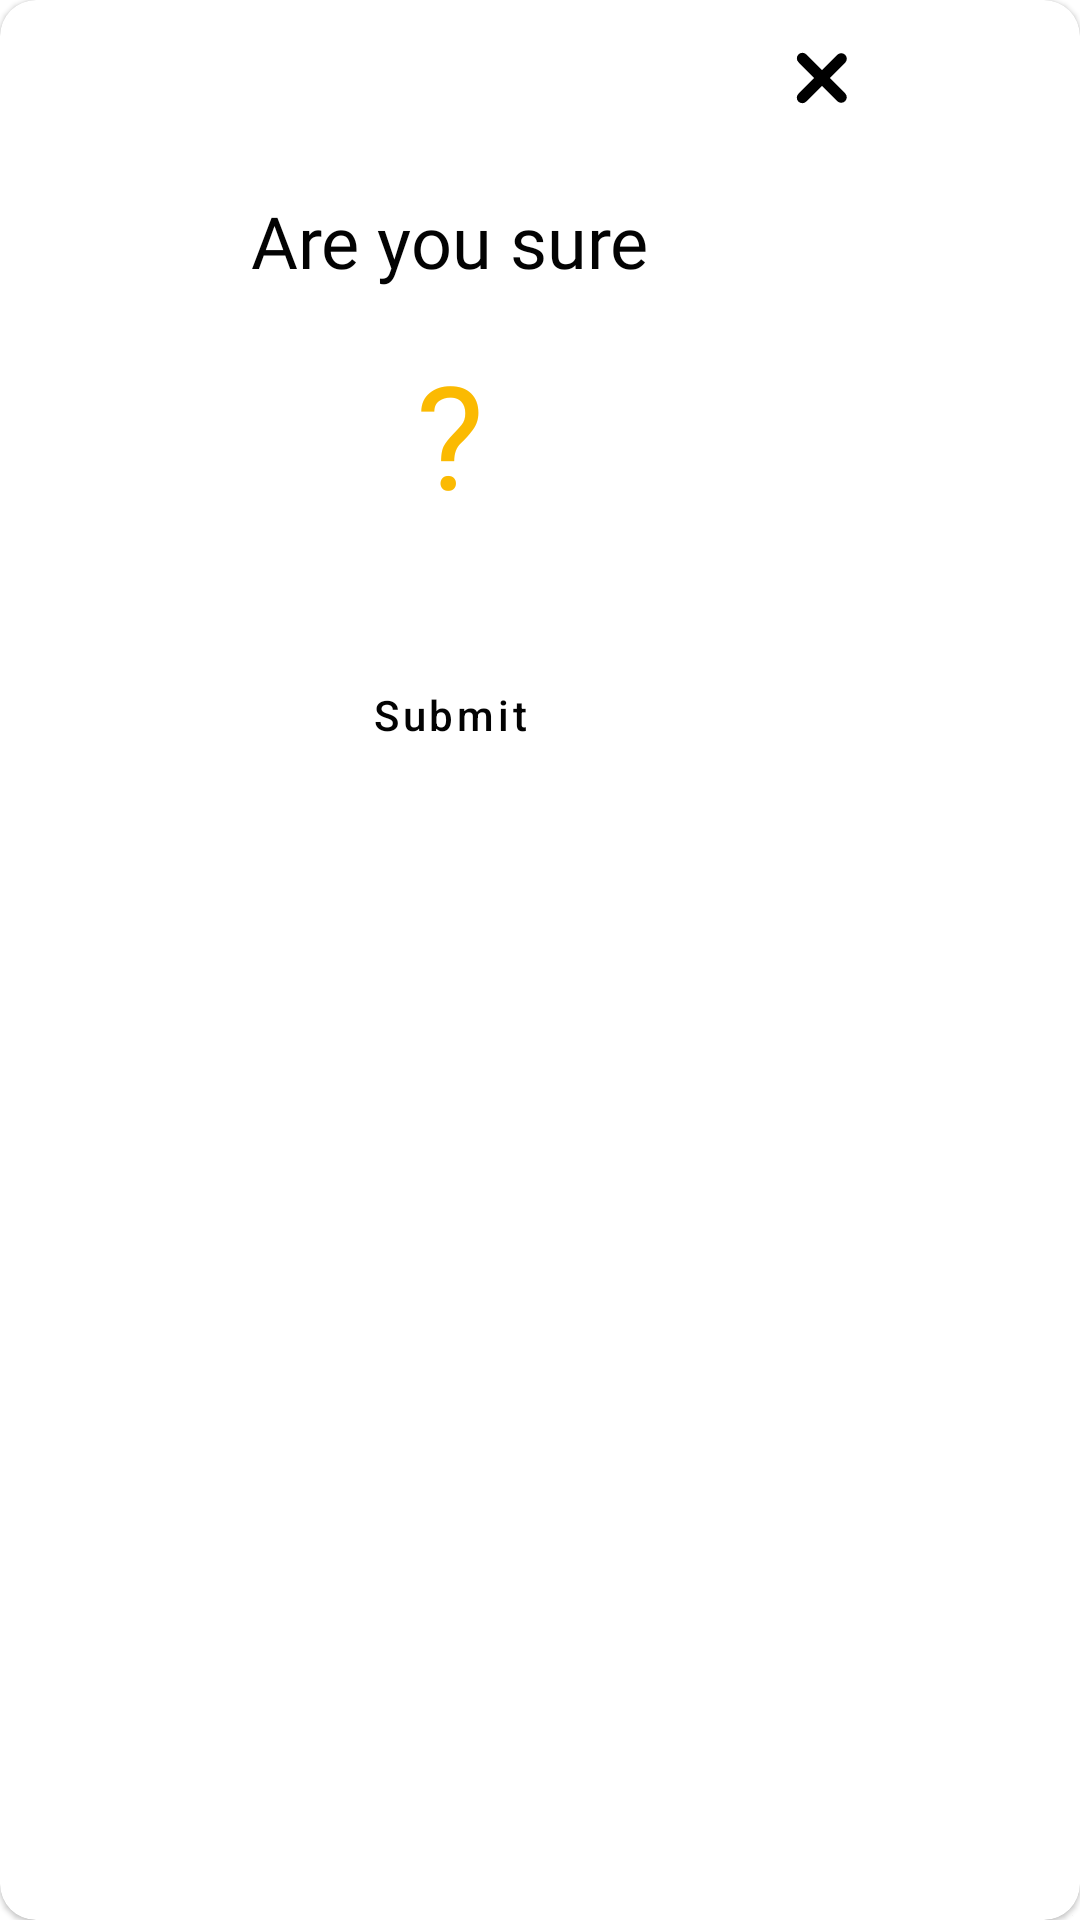

Icons on this 1080w x 1920h Android screen, each with the point to tap as point (x, y):
cancel: point (821, 78)
